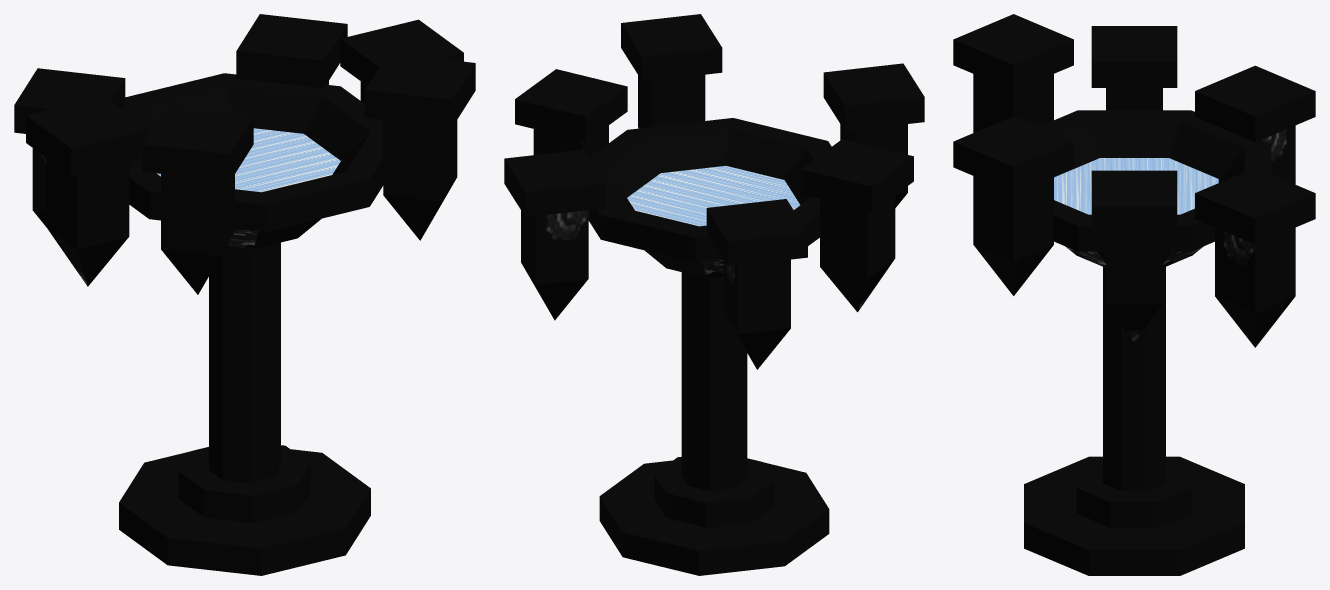
File: manaweaving_altar_inventory.obj
3 views of the same model, side by side, from view 1: azimuth 30°, elevation 25°; view 2: azimuth 150°, elevation 25°; view 3: azimuth 270°, elevation 25° (orthographic). The views are drawn at different scales.
Visible parts, largest first — view 1: MAIN_BODY_Cylinder, SHAPE_PEDISTAL_HIGH_Cube.018, SHAPE_PEDISTAL_MID_Cube.010, SHAPE_PEDISTAL_LOW_Cube.017, WATER_Plane.001; view 2: MAIN_BODY_Cylinder, SHAPE_PEDISTAL_LOW_Cube.017, SHAPE_PEDISTAL_MID_Cube.010, SHAPE_PEDISTAL_HIGH_Cube.018, WATER_Plane.001; view 3: MAIN_BODY_Cylinder, SHAPE_PEDISTAL_HIGH_Cube.018, SHAPE_PEDISTAL_LOW_Cube.017, SHAPE_PEDISTAL_MID_Cube.010, WATER_Plane.001.
Part boxes in pixels (box(x1,y1,x2,y2)): MAIN_BODY_Cylinder: box(119, 73, 383, 575); SHAPE_PEDISTAL_HIGH_Cube.018: box(142, 53, 475, 294); SHAPE_PEDISTAL_MID_Cube.010: box(26, 19, 463, 286); SHAPE_PEDISTAL_LOW_Cube.017: box(14, 14, 347, 226); WATER_Plane.001: box(157, 128, 340, 192); MAIN_BODY_Cylinder: box(588, 118, 831, 575); SHAPE_PEDISTAL_LOW_Cube.017: box(504, 149, 807, 369); SHAPE_PEDISTAL_MID_Cube.010: box(515, 69, 913, 312); SHAPE_PEDISTAL_HIGH_Cube.018: box(621, 14, 924, 207); WATER_Plane.001: box(627, 166, 800, 226); MAIN_BODY_Cylinder: box(1024, 110, 1271, 575); SHAPE_PEDISTAL_HIGH_Cube.018: box(953, 14, 1073, 295); SHAPE_PEDISTAL_LOW_Cube.017: box(1195, 65, 1315, 347); SHAPE_PEDISTAL_MID_Cube.010: box(1091, 26, 1177, 342); WATER_Plane.001: box(1054, 158, 1218, 214).
Bounding box in the file's own units: 0.9375 × 1.06 × 0.7955.
